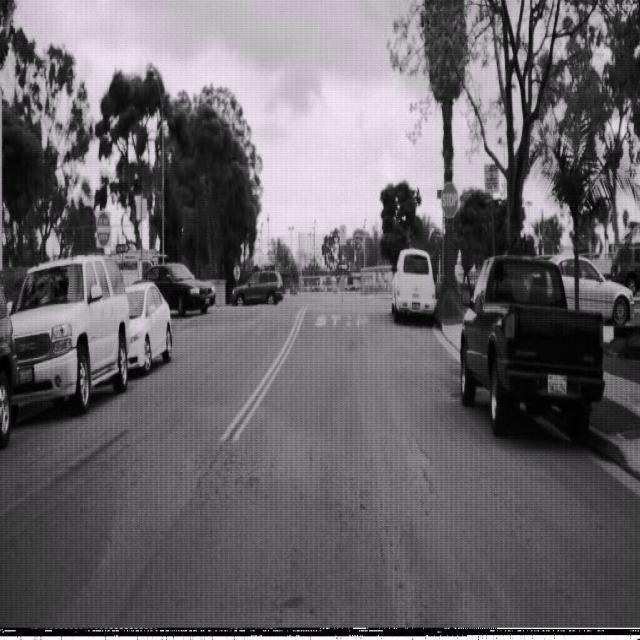stop_sign: (441, 180, 458, 220)
